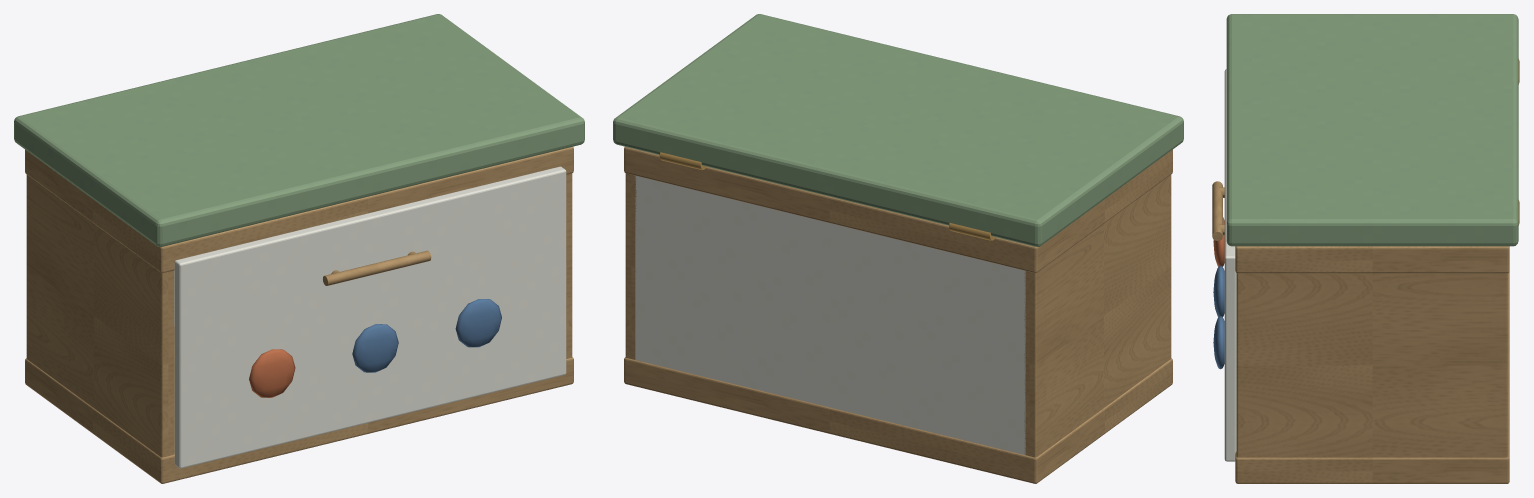
3 views of the same model, side by side, from view 1: azimuth 30°, elevation 25°; view 2: azimuth 150°, elevation 25°; view 3: azimuth 270°, elevation 25° (orthographic).
Parts seen in each view (by area): view 1: Cabinet front, Toy-box rounded lid, Cabinet side, Cabinet top bottom.001, Cabinet top bottom, Original toy-box raised motif, Original toy-box raised motif.001, Original toy-box raised motif.002, Cabinet side.001, Cabinet handle; view 2: Toy-box rounded lid, Cabinet back, Cabinet side, Cabinet top bottom, Cabinet top bottom.001, Cabinet side.001; view 3: Toy-box rounded lid, Cabinet side.001, Cabinet top bottom, Cabinet top bottom.001, Cabinet front, Cabinet handle, Original toy-box raised motif.002, Original toy-box raised motif.001.
Part boxes in pixels (x1=…): Cabinet front: x1=174, y1=166, x2=566, y2=468; Toy-box rounded lid: x1=14, y1=14, x2=584, y2=246; Cabinet side: x1=26, y1=175, x2=174, y2=457; Cabinet top bottom.001: x1=25, y1=146, x2=573, y2=272; Cabinet top bottom: x1=25, y1=326, x2=573, y2=483; Original toy-box raised motif: x1=249, y1=349, x2=295, y2=397; Original toy-box raised motif.001: x1=352, y1=324, x2=398, y2=372; Original toy-box raised motif.002: x1=455, y1=299, x2=501, y2=347; Cabinet side.001: x1=566, y1=173, x2=572, y2=358; Cabinet handle: x1=323, y1=250, x2=431, y2=285; Toy-box rounded lid: x1=613, y1=14, x2=1183, y2=246; Cabinet back: x1=635, y1=176, x2=1025, y2=454; Cabinet side: x1=1024, y1=175, x2=1171, y2=457; Cabinet top bottom: x1=624, y1=357, x2=1172, y2=483; Cabinet top bottom.001: x1=624, y1=146, x2=1172, y2=272; Cabinet side.001: x1=625, y1=173, x2=636, y2=359; Toy-box rounded lid: x1=1226, y1=14, x2=1518, y2=246; Cabinet side.001: x1=1236, y1=273, x2=1508, y2=457; Cabinet top bottom: x1=1235, y1=271, x2=1509, y2=483; Cabinet top bottom.001: x1=1235, y1=246, x2=1509, y2=273; Cabinet front: x1=1224, y1=69, x2=1236, y2=461; Cabinet handle: x1=1212, y1=181, x2=1222, y2=240; Original toy-box raised motif.002: x1=1213, y1=316, x2=1224, y2=369; Original toy-box raised motif.001: x1=1213, y1=265, x2=1224, y2=316.
Size of the model in its own units: 0.83 by 0.495 by 0.516.
Materials: 6 (6 with a texture image).
